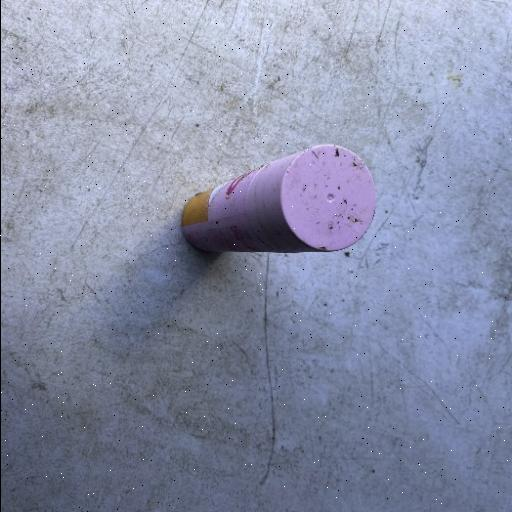Metal: (179, 142, 377, 256)
